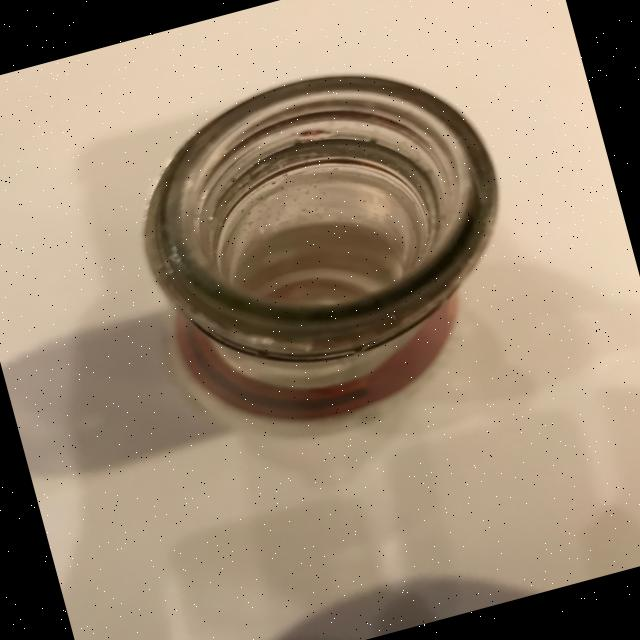glass: (109, 34, 546, 454)
